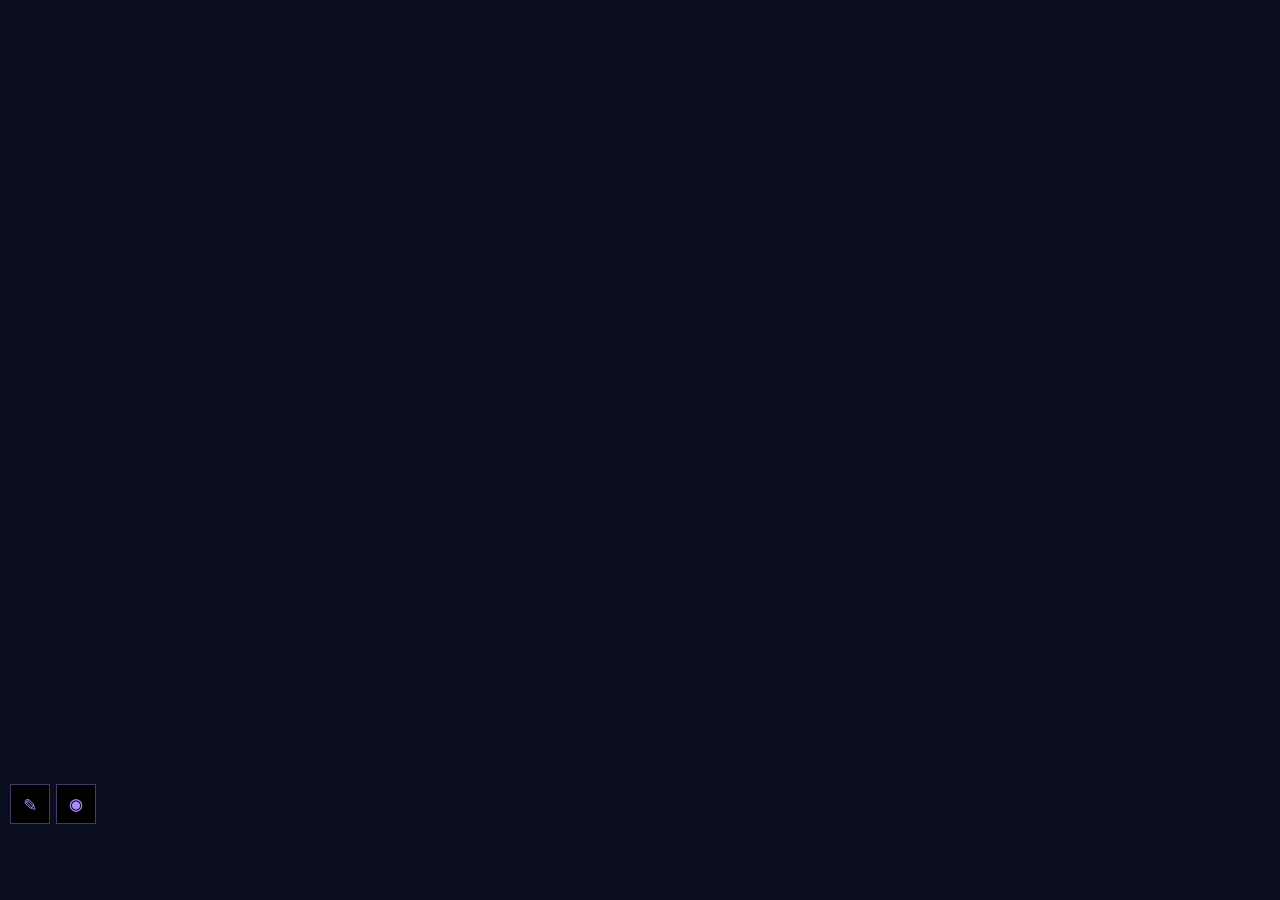
Test case: notepad controls › attaches a screenshot without text and supports edit and drop RPCs
The image size is (1280, 900).
Later steps or results of the test are not shown.
Click the button named "Screenshot and note": (76, 804) [56,784,96,824]
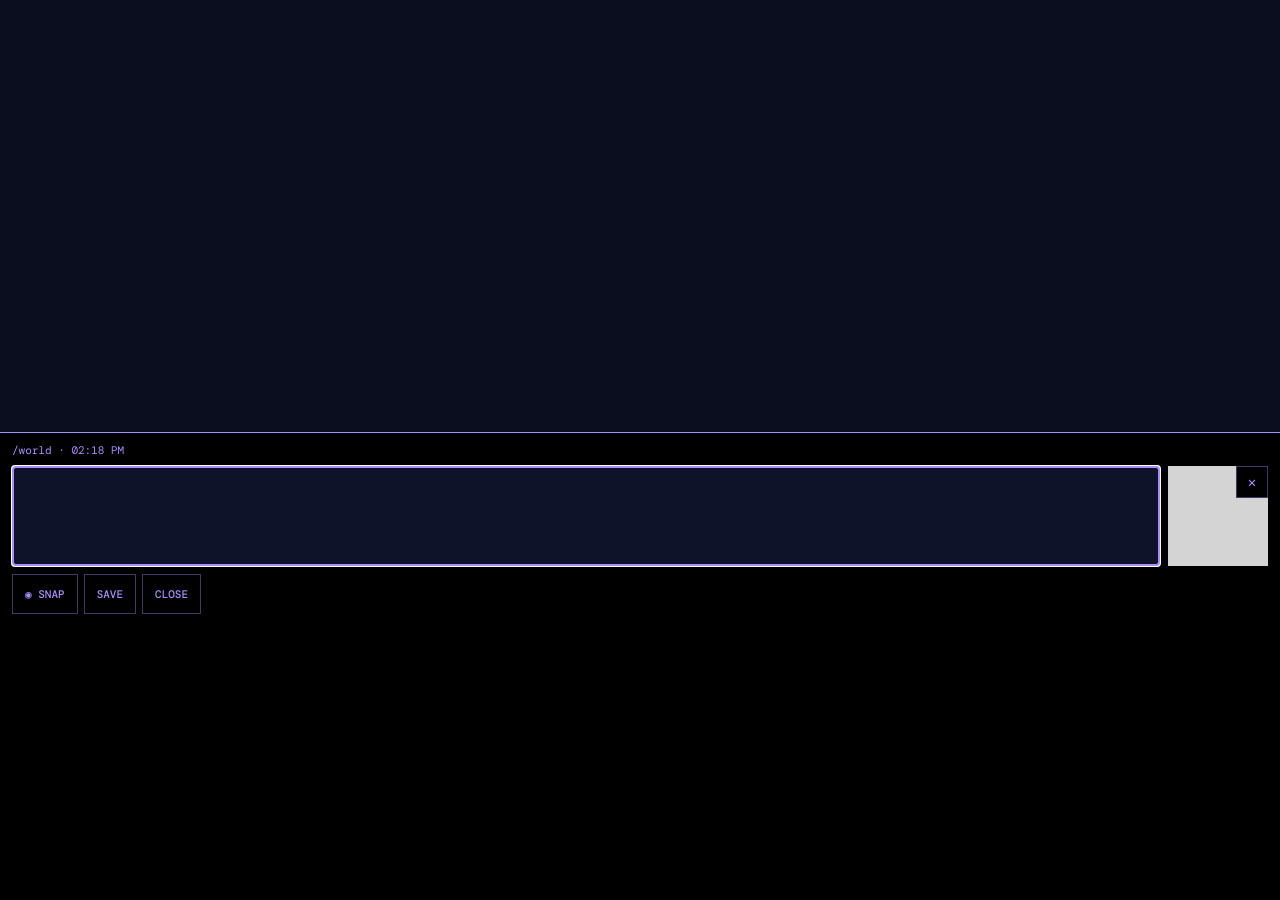
Click the button "SAVE": (110, 594) [84,574,136,614]
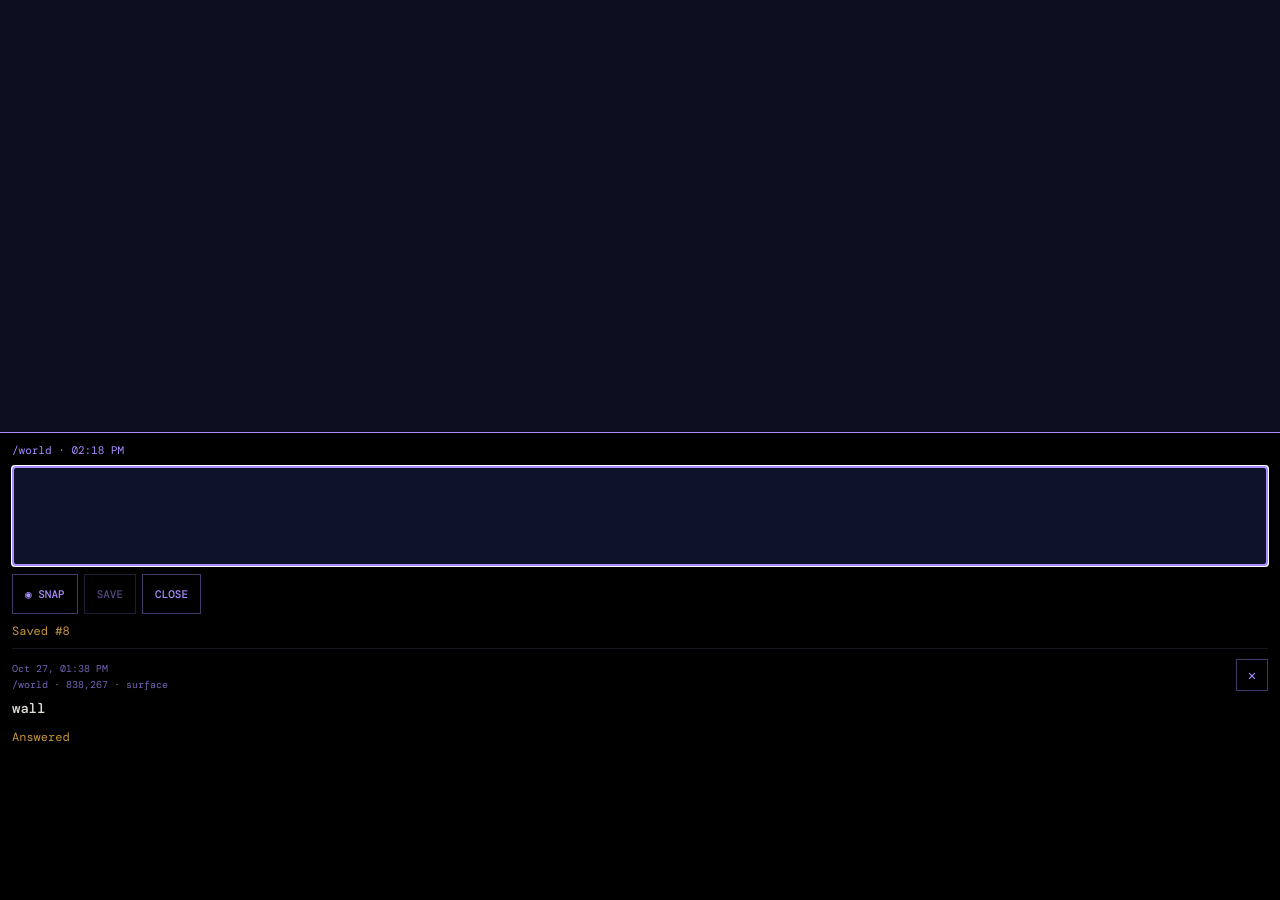
Result: the text "Saved #8" is shown at [12,623,70,639]
